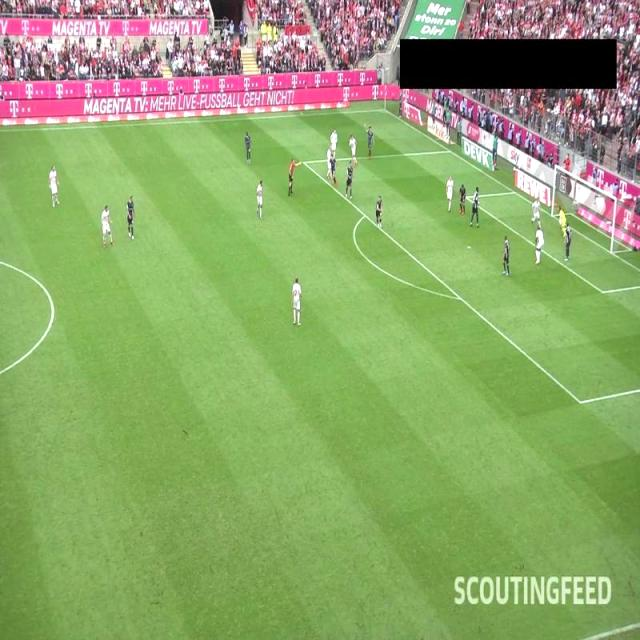bigarea_bottom_inner: (576, 396, 586, 406)
bigarea_top_inner: (298, 156, 309, 168)
bigarea_top_outter: (444, 145, 454, 156)
bottom_arc_area_intersection: (454, 292, 464, 302)
corner: (379, 104, 390, 115)
smallarea_bottom_inner: (598, 286, 608, 296)
smallarea_top_inner: (462, 192, 473, 202)
smallarea_top_outter: (508, 186, 520, 197)
top_arc_area_intersection: (360, 210, 370, 220)
